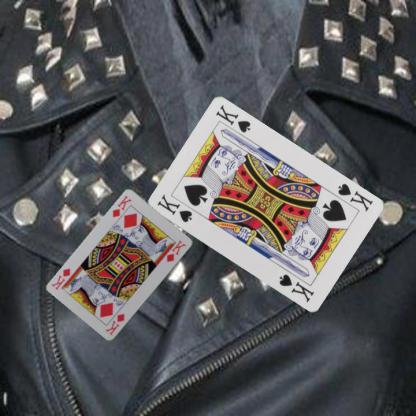Kd: (103, 311, 126, 337), (110, 193, 133, 219)
Ks: (334, 180, 374, 213), (154, 192, 193, 224)
